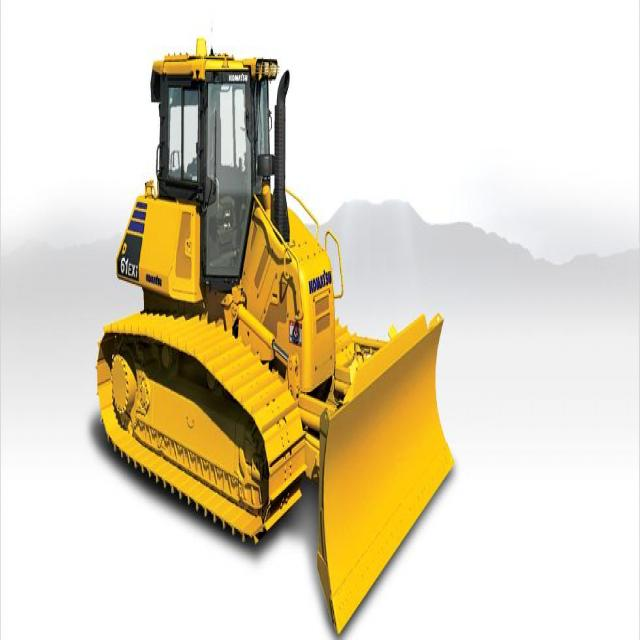Bulldozer: (81, 25, 456, 637)
